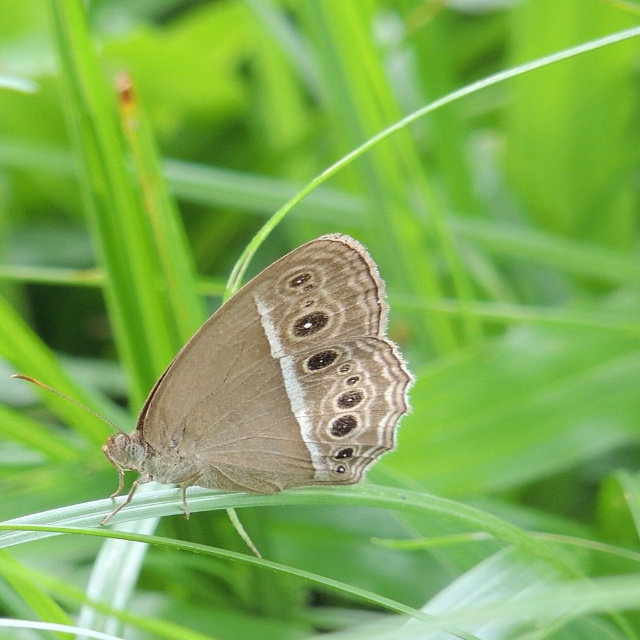Butterfly: (35, 216, 443, 507)
